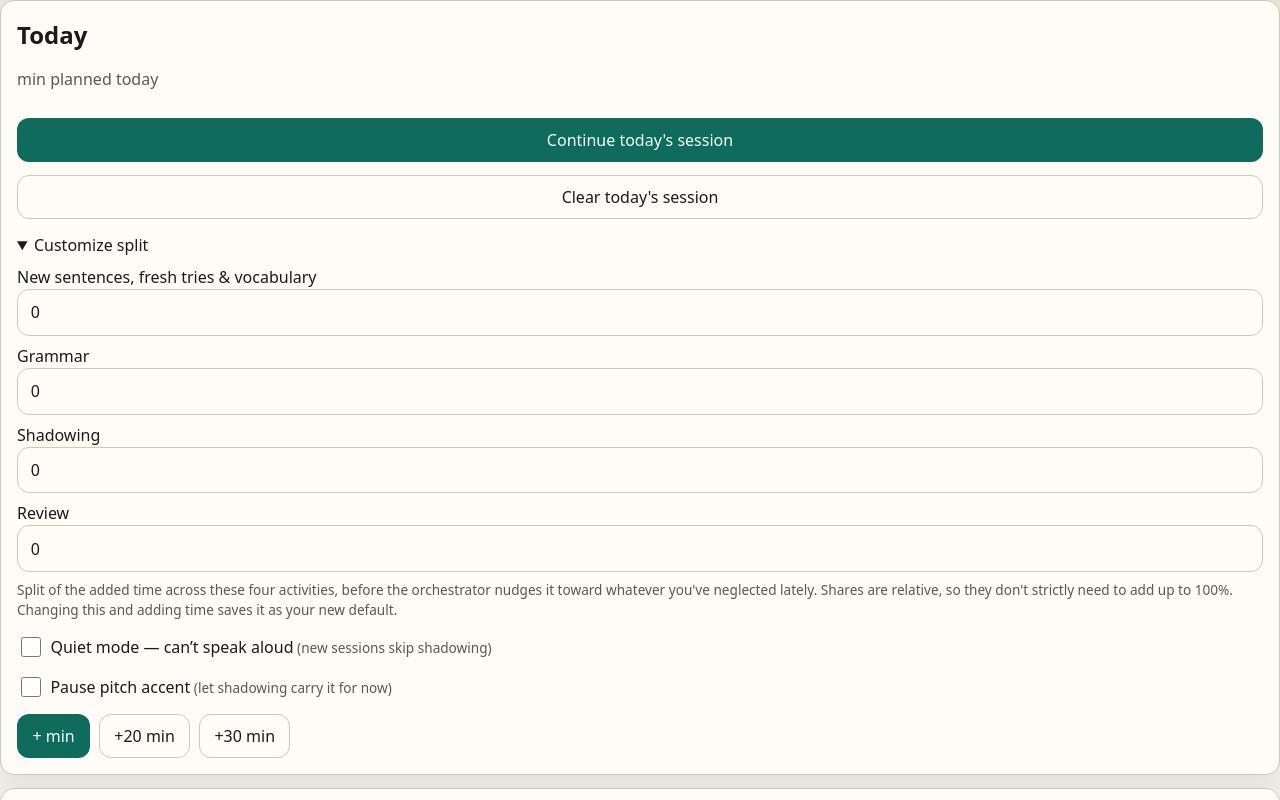
HomePage › cancelling the clear confirmation leaves the session untouched
Expected: the text "min planned today" is shown, [17,68,158,90]
Click the button "Clear today's session" at (640, 197), box [17,175,1263,219]
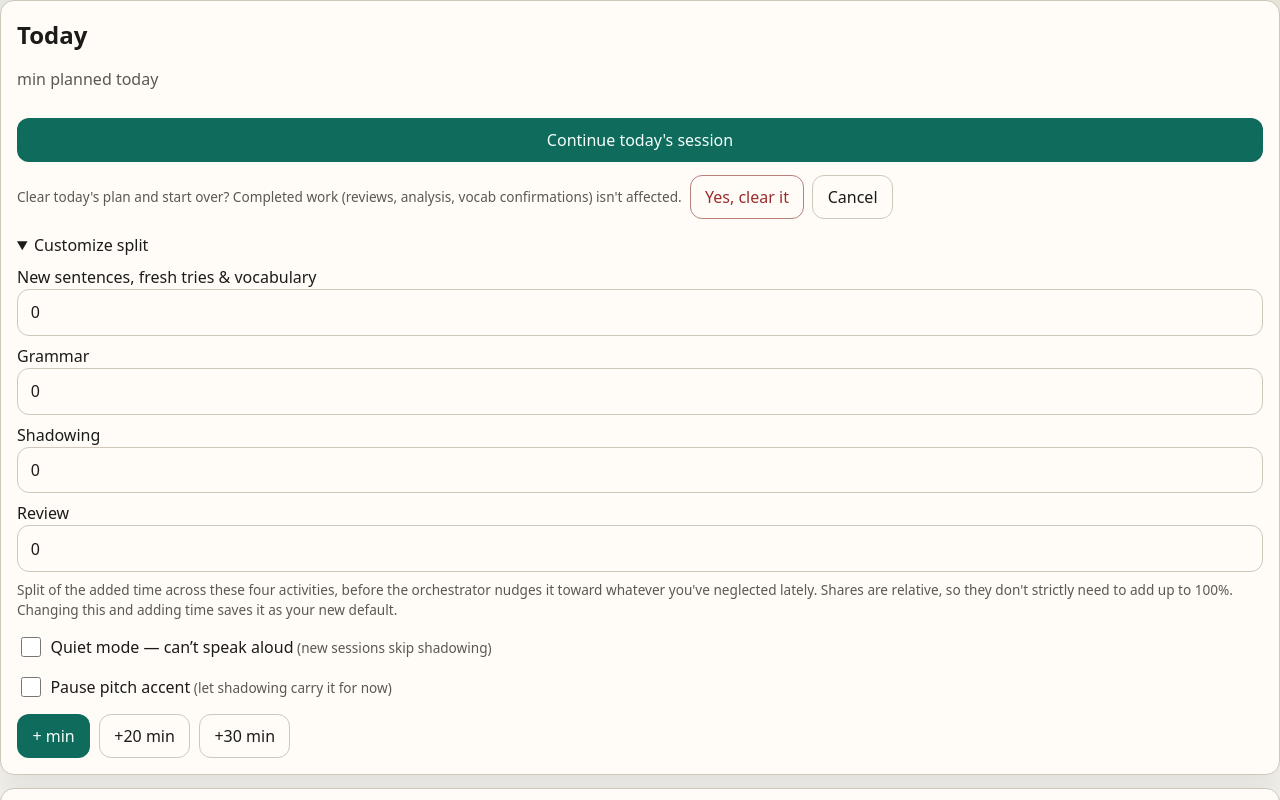
Click the button "Cancel" at (853, 197), box [812,175,893,219]
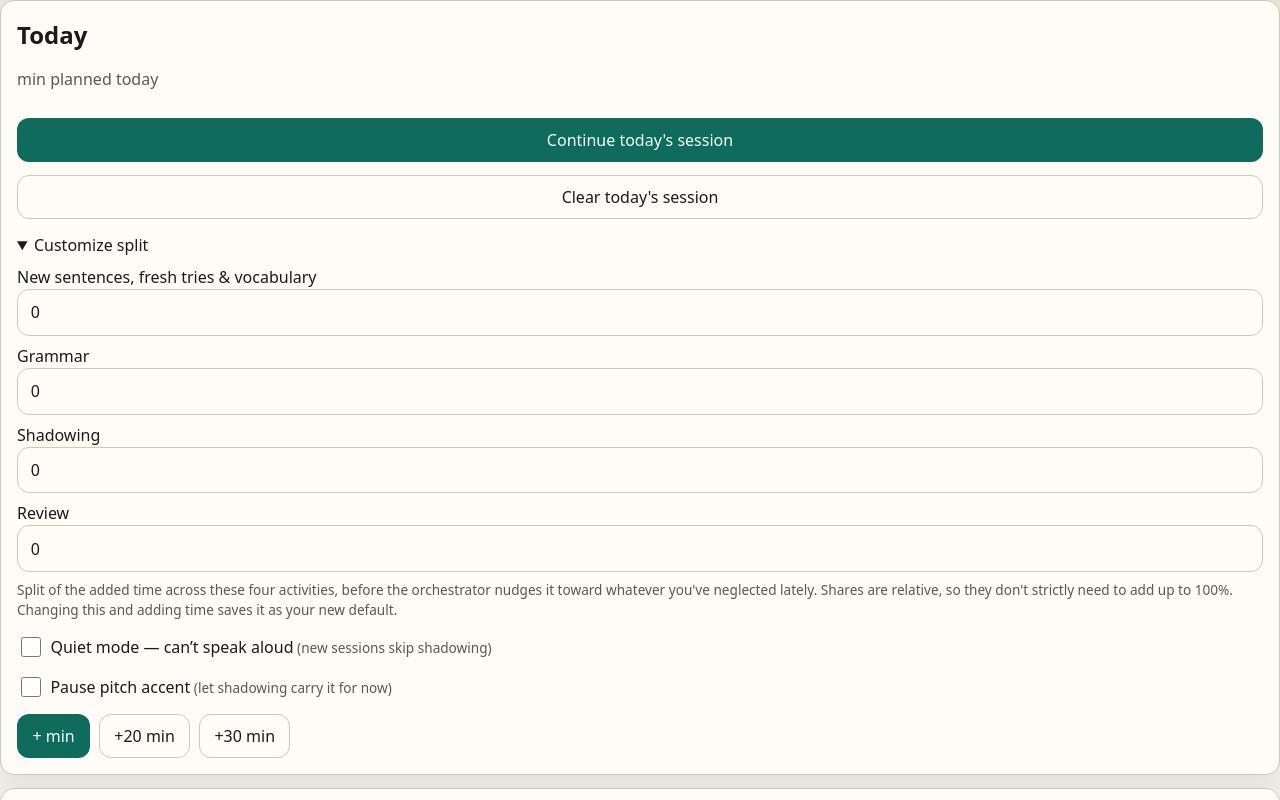
Result: the text "Clear today's plan and start over" is gone
